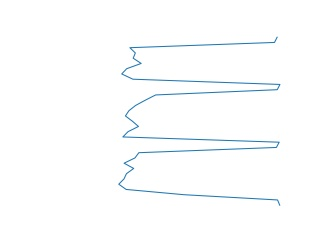majorRiverChannelBar: (117, 38, 284, 207)
